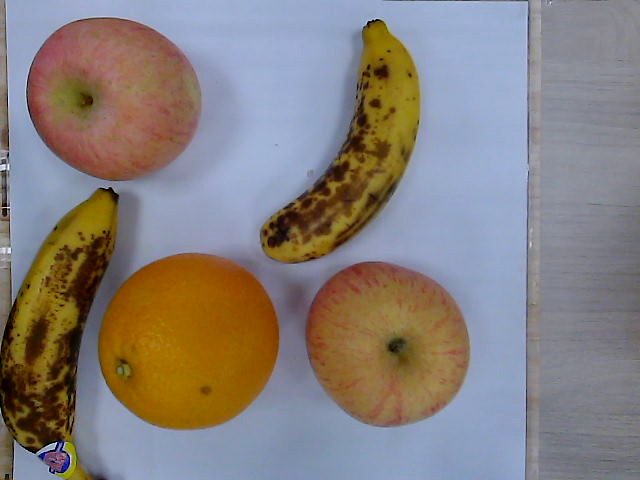fresh_apple: (26, 18, 201, 182), (306, 262, 472, 427)
fresh_orange: (98, 254, 281, 430)
rotten_banana: (258, 18, 421, 263), (2, 190, 117, 480)
